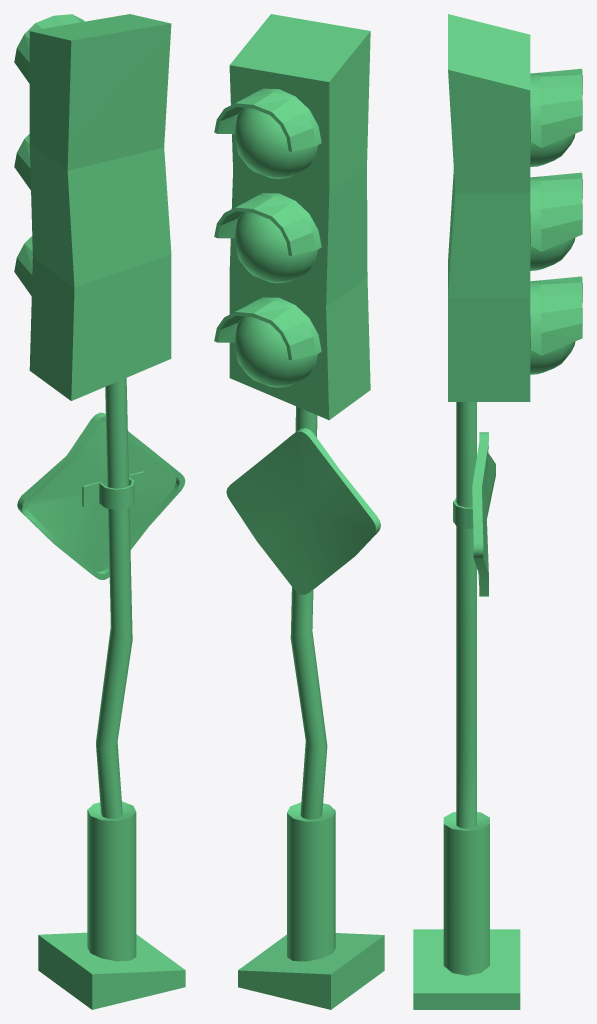
Rendered from SM_feuroute.fbx.
3 views of the same model, side by side, from view 1: azimuth 30°, elevation 25°; view 2: azimuth 150°, elevation 25°; view 3: azimuth 270°, elevation 25° (orthographic).
Visible parts, largest first — view 1: SM_feuroute; view 2: SM_feuroute; view 3: SM_feuroute.
Boxes of the visible parts, x1,y1,x2,y2 form: SM_feuroute: [14, 14, 185, 1009]; SM_feuroute: [214, 14, 384, 1009]; SM_feuroute: [413, 14, 582, 1009].
Size of the model in its own units: 432 by 2520 by 408.
